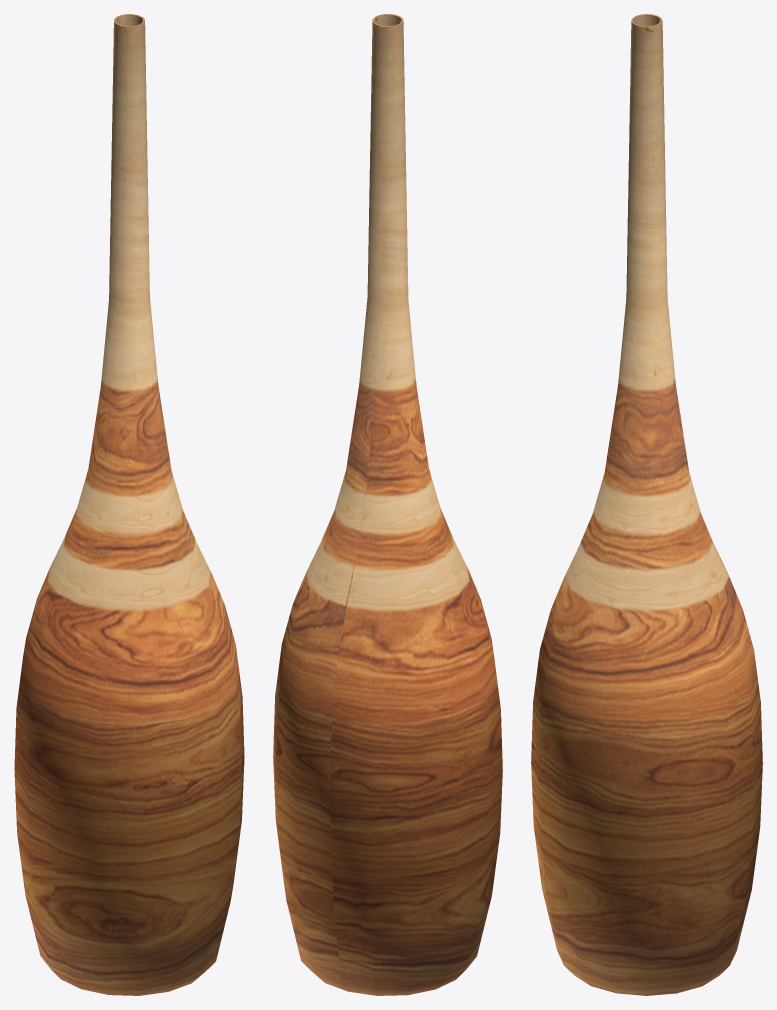
The model's file is Vase 4.FBX.
3 views of the same model, side by side, from view 1: azimuth 30°, elevation 25°; view 2: azimuth 150°, elevation 25°; view 3: azimuth 270°, elevation 25° (orthographic).
Parts seen in each view (by area): view 1: Vase 4; view 2: Vase 4; view 3: Vase 4.
Part boxes in pixels (bbox=[...]): Vase 4: bbox=[14, 14, 244, 995]; Vase 4: bbox=[273, 14, 502, 995]; Vase 4: bbox=[531, 14, 762, 995].
Size of the model in its own units: 29.62 by 133 by 29.62.
1 material, 1 textured.
